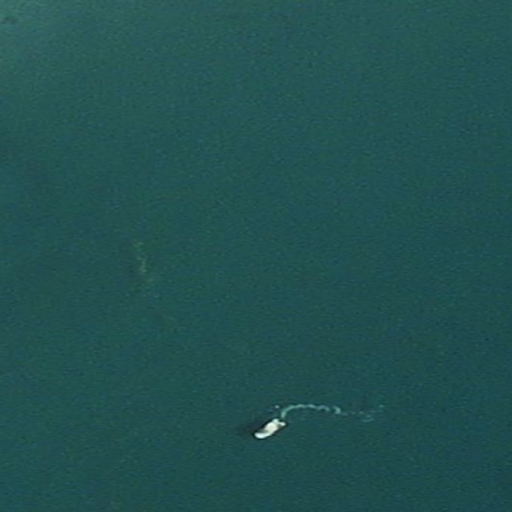ship: (250, 415, 289, 443)
